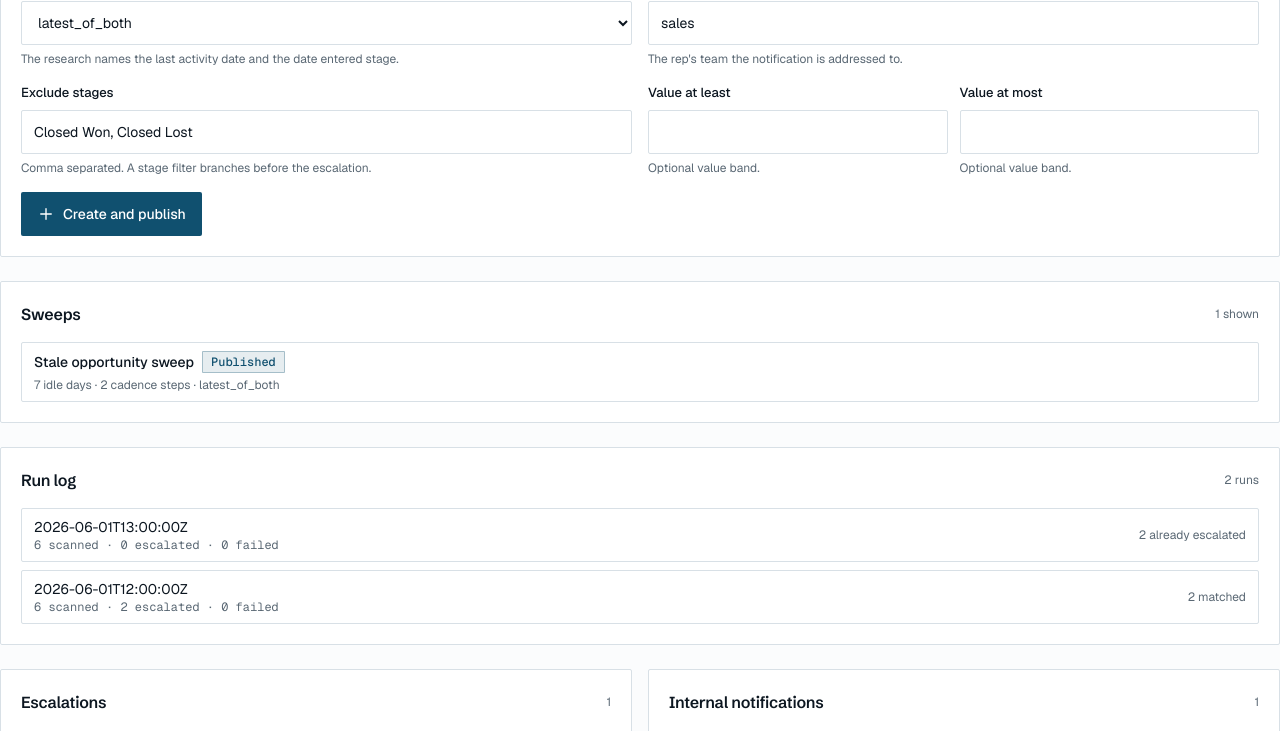
the page › previews the decisions the sweep would take
The image size is (1280, 731).
(page scrolled)
Click the button "Stale opportunity sweep". click: [114, 362]
box: [21, 342, 1259, 402]
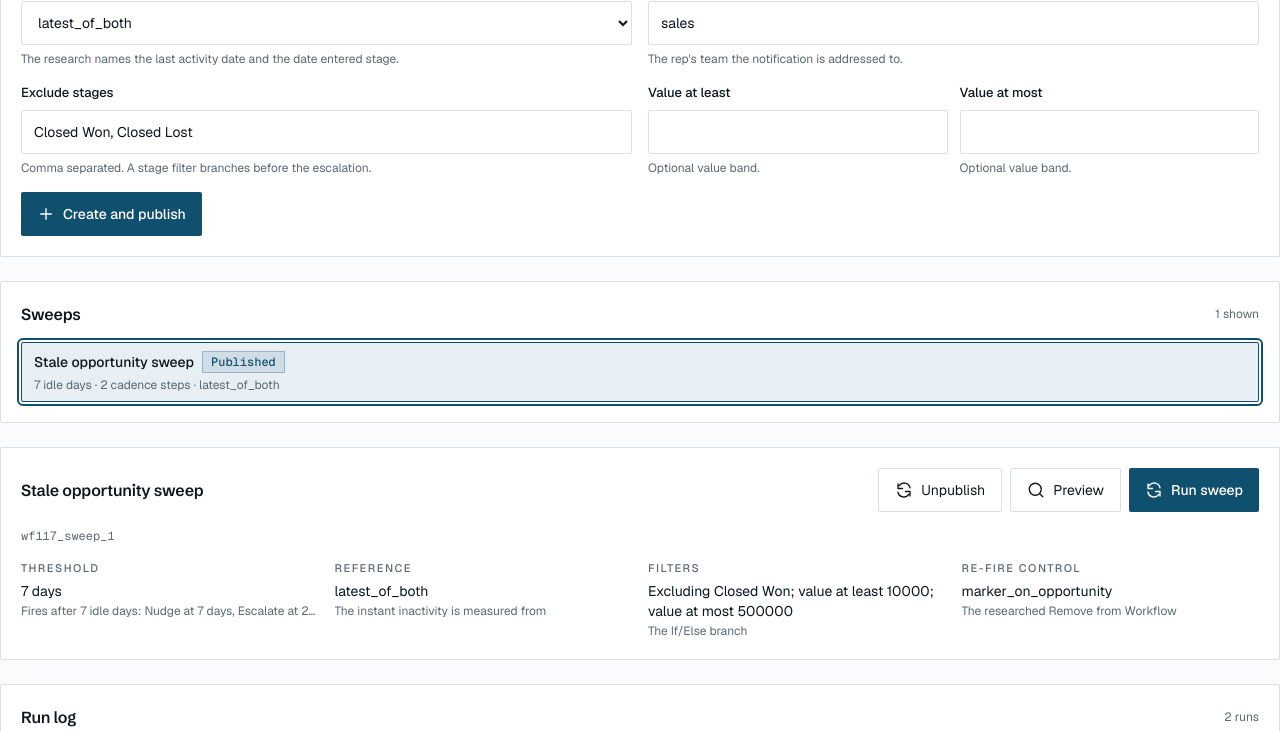
Click the button "Preview". click: [1066, 490]
box: [1010, 468, 1121, 512]
(page scrolled)
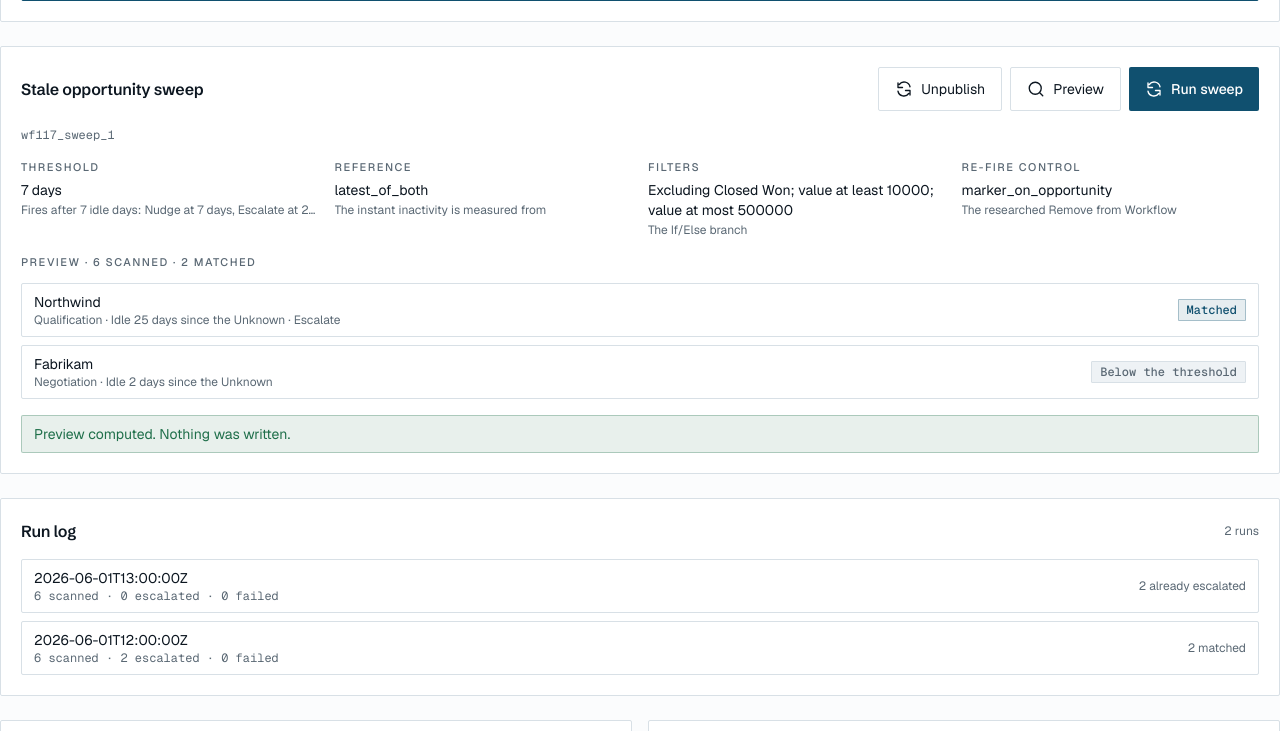
Expected: the text "Preview · 6 scanned · 2 matched" is shown, [21, 255, 256, 269]
Expected: the text "Below the threshold" is shown, [1091, 361, 1246, 383]
